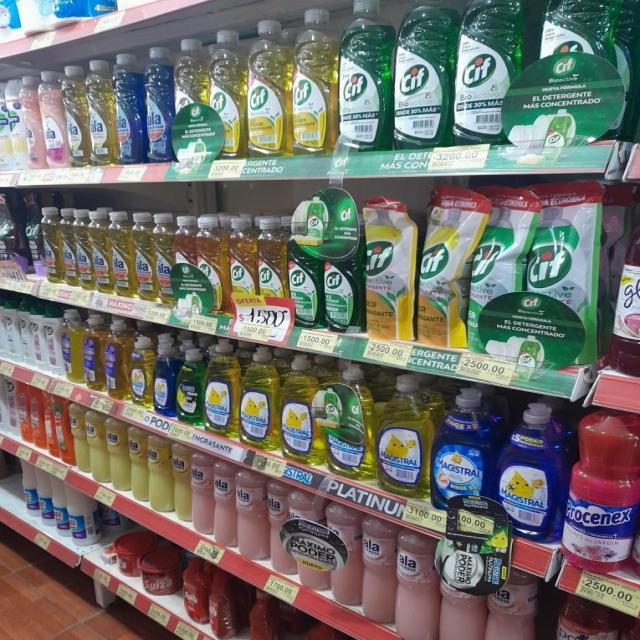ala_conc_amarillo: (89, 57, 115, 167), (66, 62, 88, 168), (110, 210, 132, 298), (134, 212, 154, 302), (155, 212, 174, 306), (92, 210, 110, 294), (41, 206, 59, 284), (75, 208, 91, 290), (61, 207, 75, 287)
ala_conc_azul: (145, 44, 173, 164), (115, 51, 144, 165)
ala_conc_rojo: (174, 214, 197, 314)
ala_crem_amarillo: (148, 432, 172, 514), (107, 416, 128, 493), (129, 425, 147, 504), (86, 410, 105, 484), (173, 442, 190, 523), (70, 402, 86, 472)
ala_crem_rosado: (397, 529, 438, 640), (362, 515, 395, 626), (236, 468, 266, 561), (213, 458, 236, 548), (268, 478, 288, 573), (192, 450, 212, 538)
ala_ultra_rosa: (41, 68, 65, 170)
cif_conc_bot_amarilla: (291, 7, 336, 156), (247, 19, 289, 158), (211, 28, 245, 159), (258, 214, 287, 328), (229, 214, 257, 322), (198, 215, 227, 318)
cif_conc_botella_verde: (452, 0, 518, 146), (393, 0, 450, 149), (339, 0, 391, 153), (323, 196, 361, 334), (289, 196, 321, 330)
cif_conc_sachet_amarillo: (416, 186, 465, 350), (365, 192, 414, 341)
cif_conc_sachet_verde: (527, 180, 600, 368)
magistral_con_amarillo: (377, 372, 429, 498), (280, 354, 320, 464), (240, 346, 279, 449), (205, 341, 238, 436), (130, 335, 153, 408)
magistral_con_azul: (496, 401, 559, 541), (432, 387, 489, 510), (154, 337, 176, 417)
